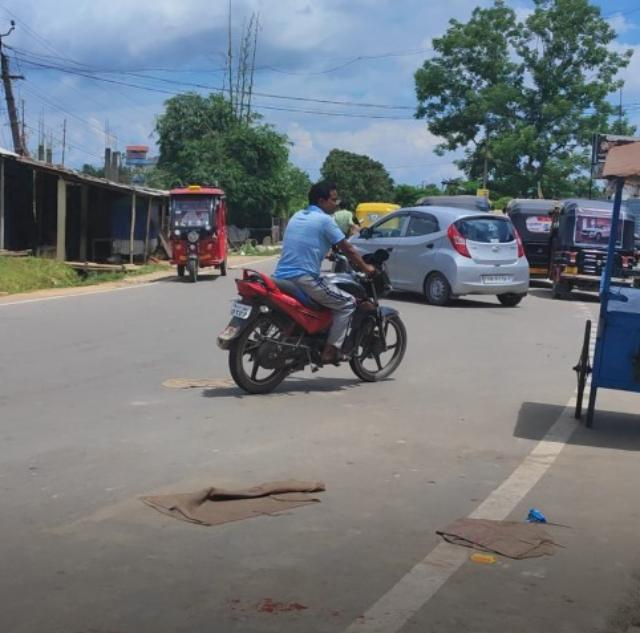licensePlate: (228, 302, 253, 322)
motorcycle: (216, 183, 408, 394)
withoutHelmet: (307, 184, 343, 214)
